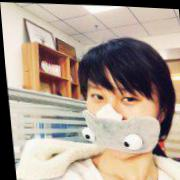WRONG: (82, 71, 161, 160)
